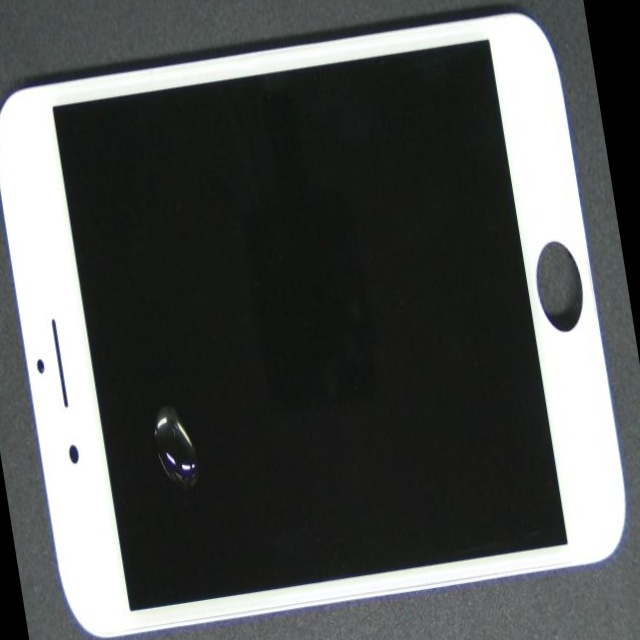oil: (83, 221, 320, 640)
